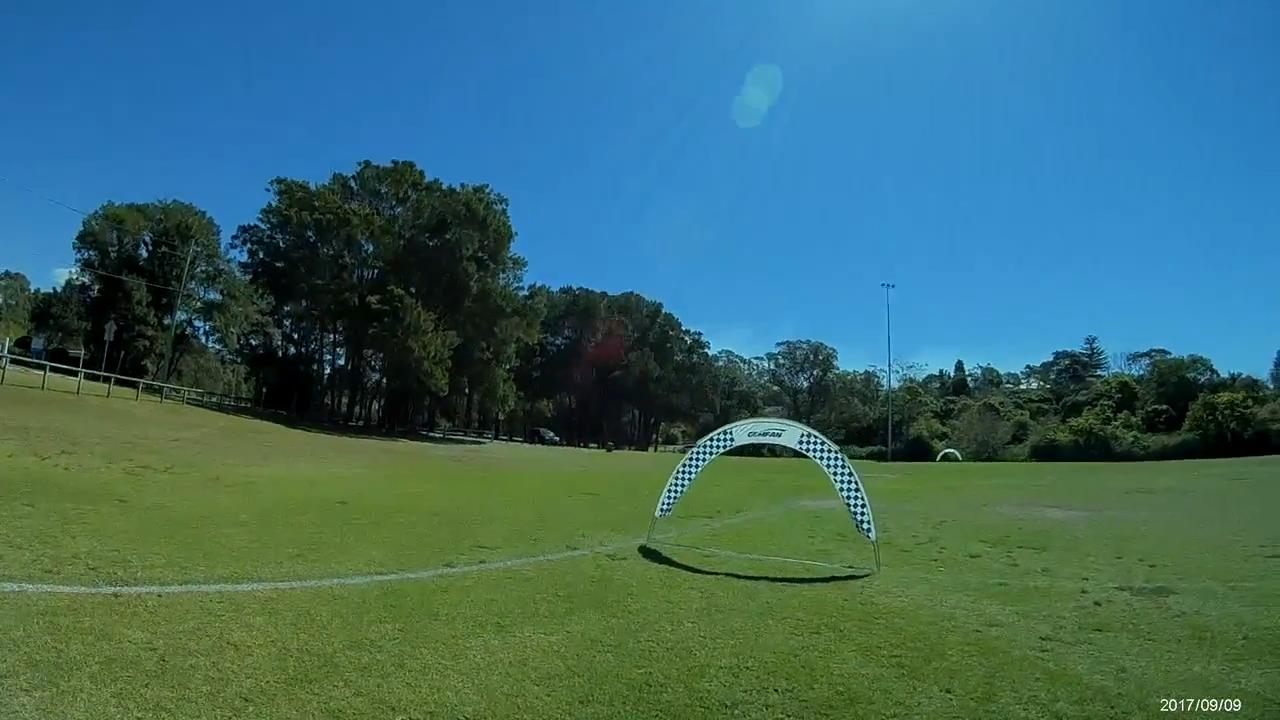gate: (654, 414, 876, 542), (935, 448, 961, 464)
